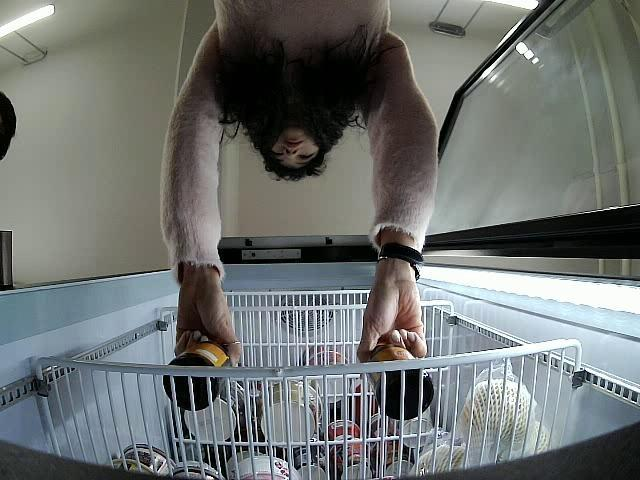17_vita500: (360, 342, 434, 422), (162, 335, 230, 411)
